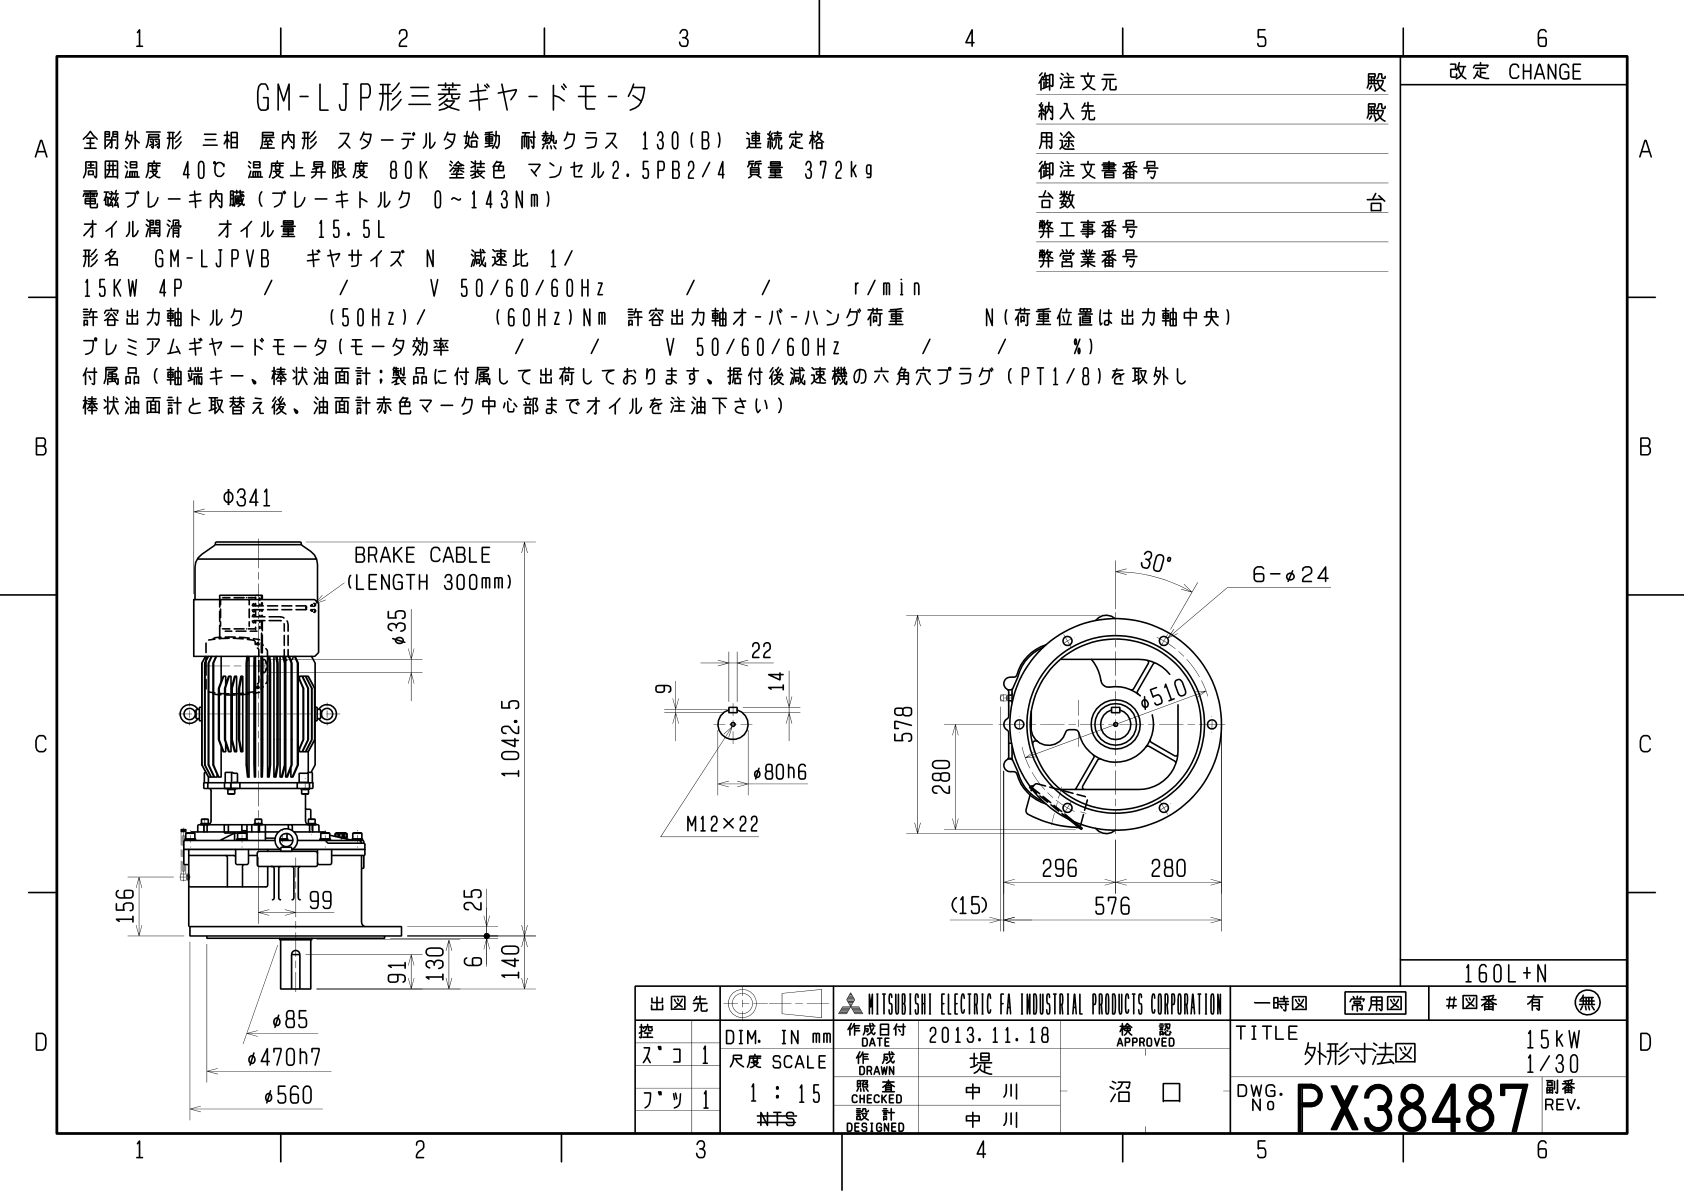GM_LJP_屋内_三相_立: (81, 459, 1379, 962)
